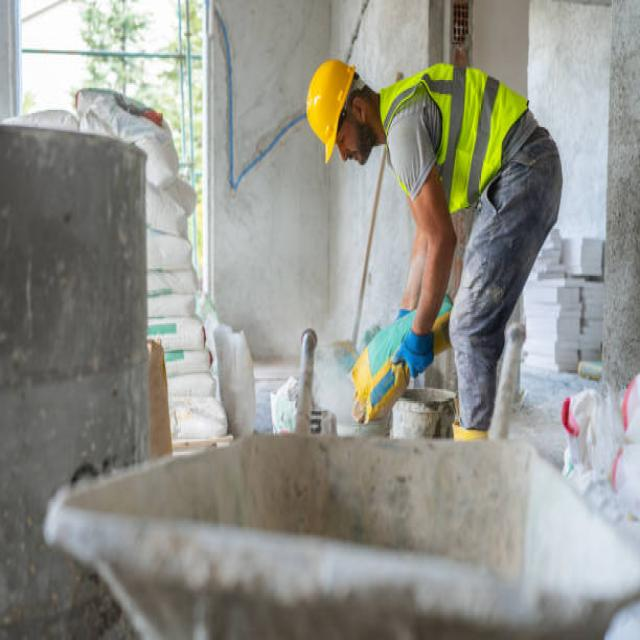Gloves: (388, 318, 441, 383), (380, 302, 414, 348)
Vest: (378, 58, 534, 218)
helmet: (305, 58, 356, 170)
person: (306, 56, 565, 440)
